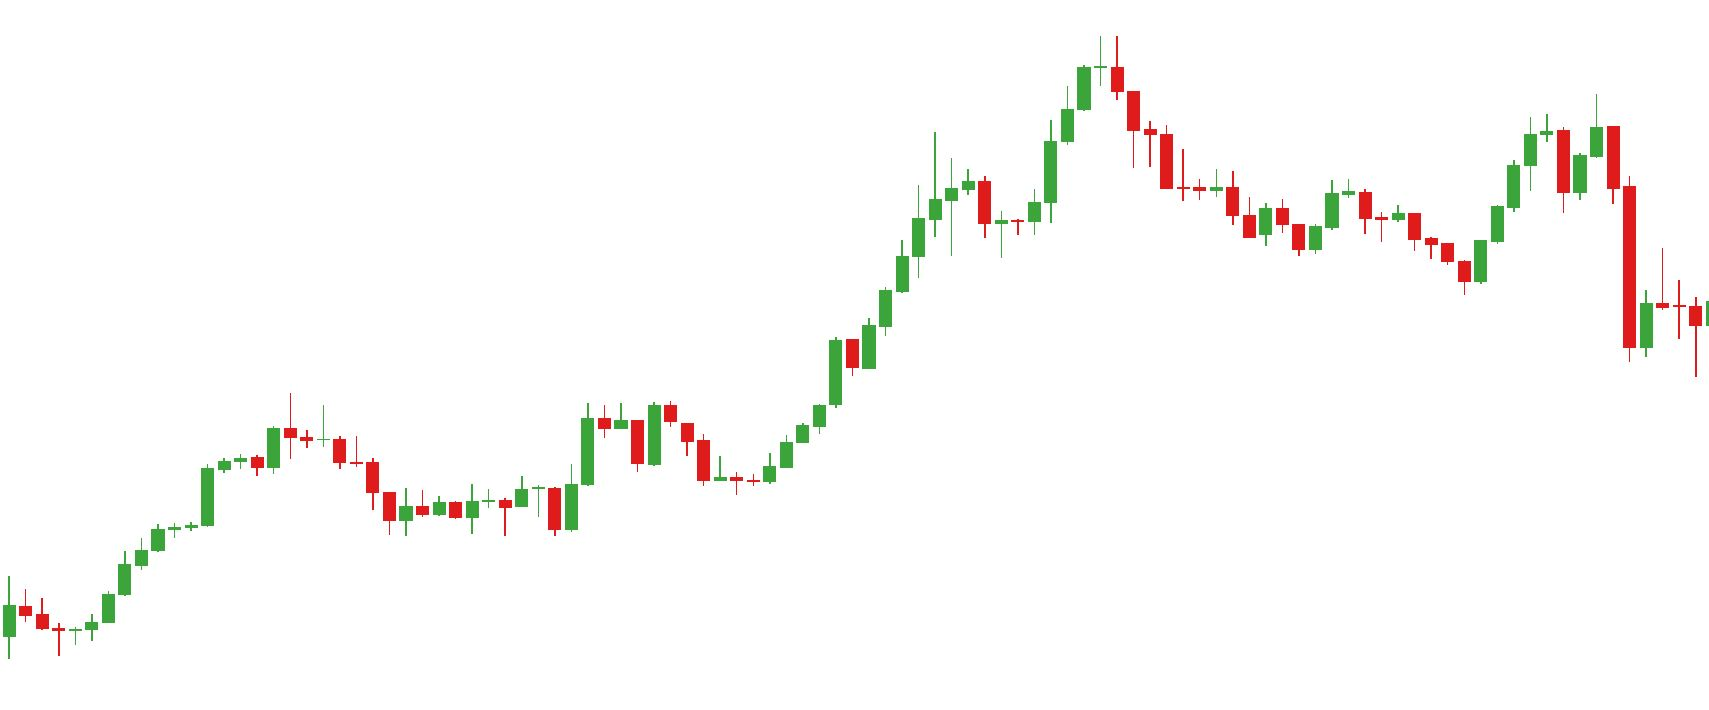sell: (1523, 92, 1605, 171)
